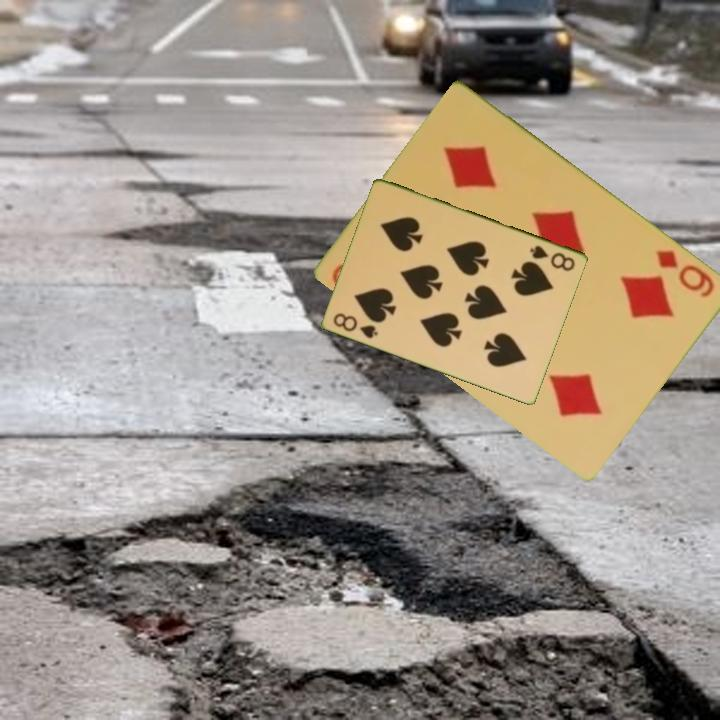6d: (653, 246, 718, 301)
8s: (527, 242, 578, 274), (330, 309, 381, 341)
